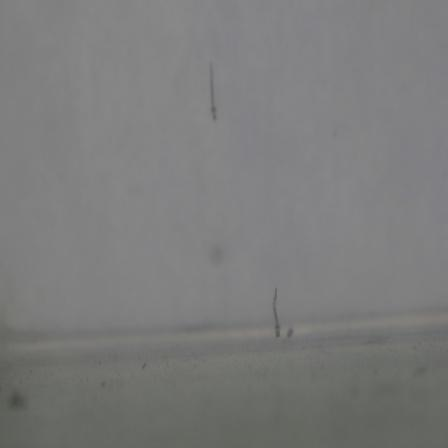Jentik-Nyamuk: (266, 281, 283, 345)
